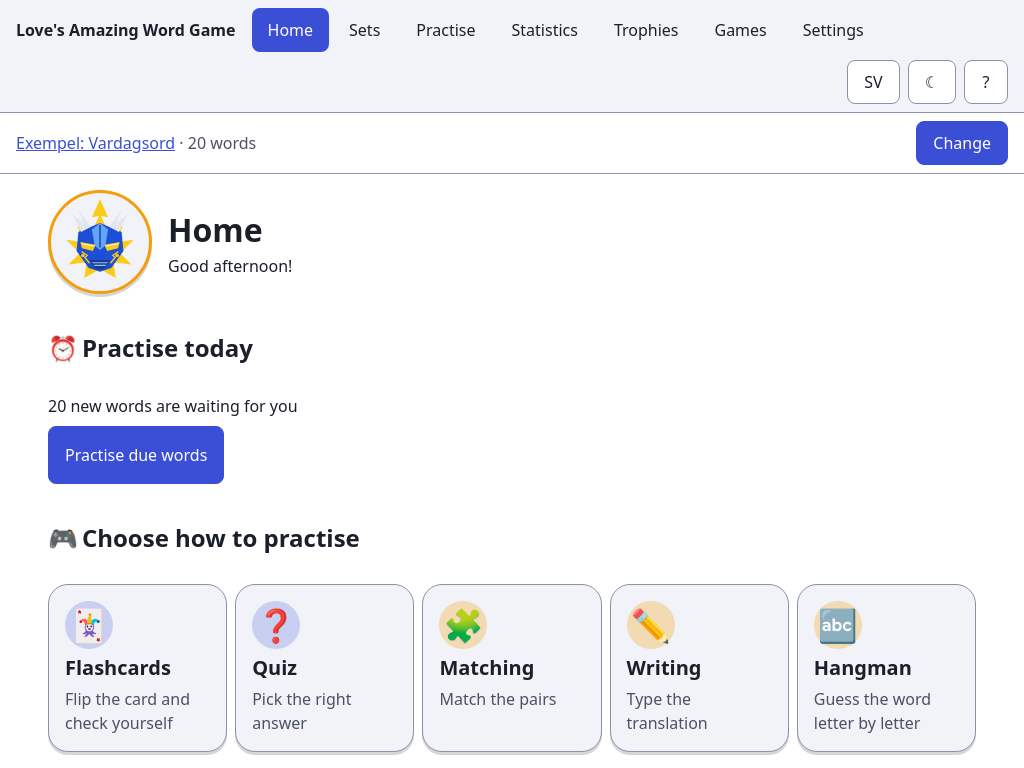
language › FR-I18N-1: switches language at runtime and persists it
What coordinates should you click on to do the following:
click the button with aria-label "Switch language"
I would click on:
 (874, 82)
Its box is [847,60,900,104].
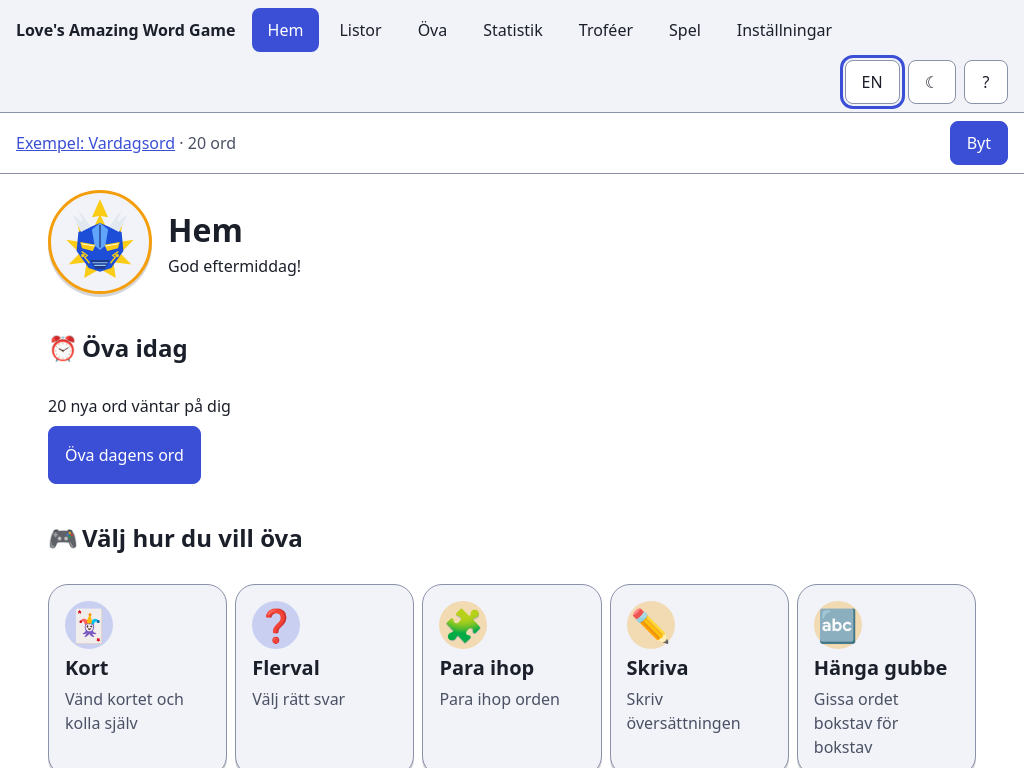
Now the heading "Hem" is shown, box [168,208,243,251]
Now the button with aria-label "Byt språk" reads "EN", box [845,60,900,104]
